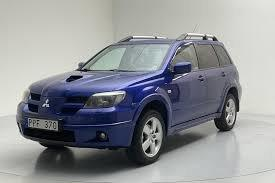license-plates: (28, 119, 58, 132)
